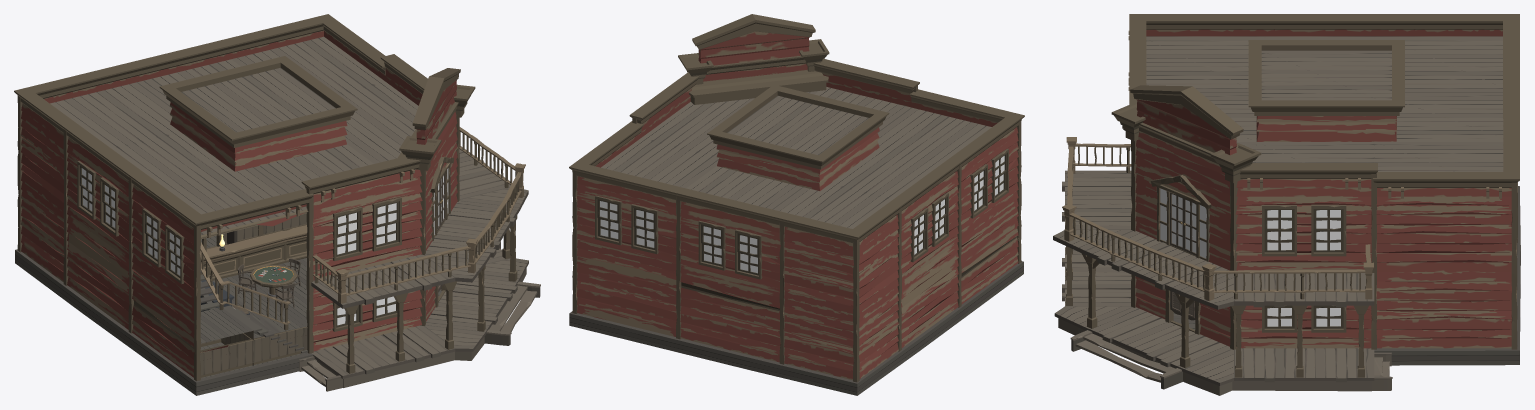
Rendered from Saloon.glb.
The picture shows the model from 3 angles, left to right: view 1: azimuth 30°, elevation 25°; view 2: azimuth 150°, elevation 25°; view 3: azimuth 270°, elevation 25°; orthographic projection. The views are drawn at different scales.
Parts seen in each view (by area): view 1: SM_Bld_Saloon_01, Bar, SM_Bld_Saloon_Glass, Black_jack; view 2: SM_Bld_Saloon_01, SM_Bld_Saloon_Glass; view 3: SM_Bld_Saloon_01, SM_Bld_Saloon_Glass, SM_Bld_Saloon_UpstairsDoor_01, SM_Bld_Saloon_UpstairsDoor_01_Glass, SM_Bld_Saloon_UpstairsDoor_02_Glass, SM_Bld_Saloon_UpstairsDoor_02.
Boxes of the visible parts, box(x1,y1,x2,y2) form: SM_Bld_Saloon_01: box(14, 14, 540, 395); Bar: box(200, 225, 307, 280); SM_Bld_Saloon_Glass: box(82, 168, 448, 325); Black_jack: box(250, 265, 297, 297); SM_Bld_Saloon_01: box(569, 14, 1024, 395); SM_Bld_Saloon_Glass: box(600, 156, 1004, 273); SM_Bld_Saloon_01: box(1053, 14, 1520, 395); SM_Bld_Saloon_Glass: box(1160, 188, 1340, 326); SM_Bld_Saloon_UpstairsDoor_01: box(1170, 192, 1183, 250); SM_Bld_Saloon_UpstairsDoor_01_Glass: box(1172, 194, 1182, 246); SM_Bld_Saloon_UpstairsDoor_02_Glass: box(1185, 200, 1196, 252); SM_Bld_Saloon_UpstairsDoor_02: box(1183, 198, 1196, 255).
Size of the model in its own units: 16.66 by 9.91 by 16.68.
Materials: 4 (2 with a texture image).
